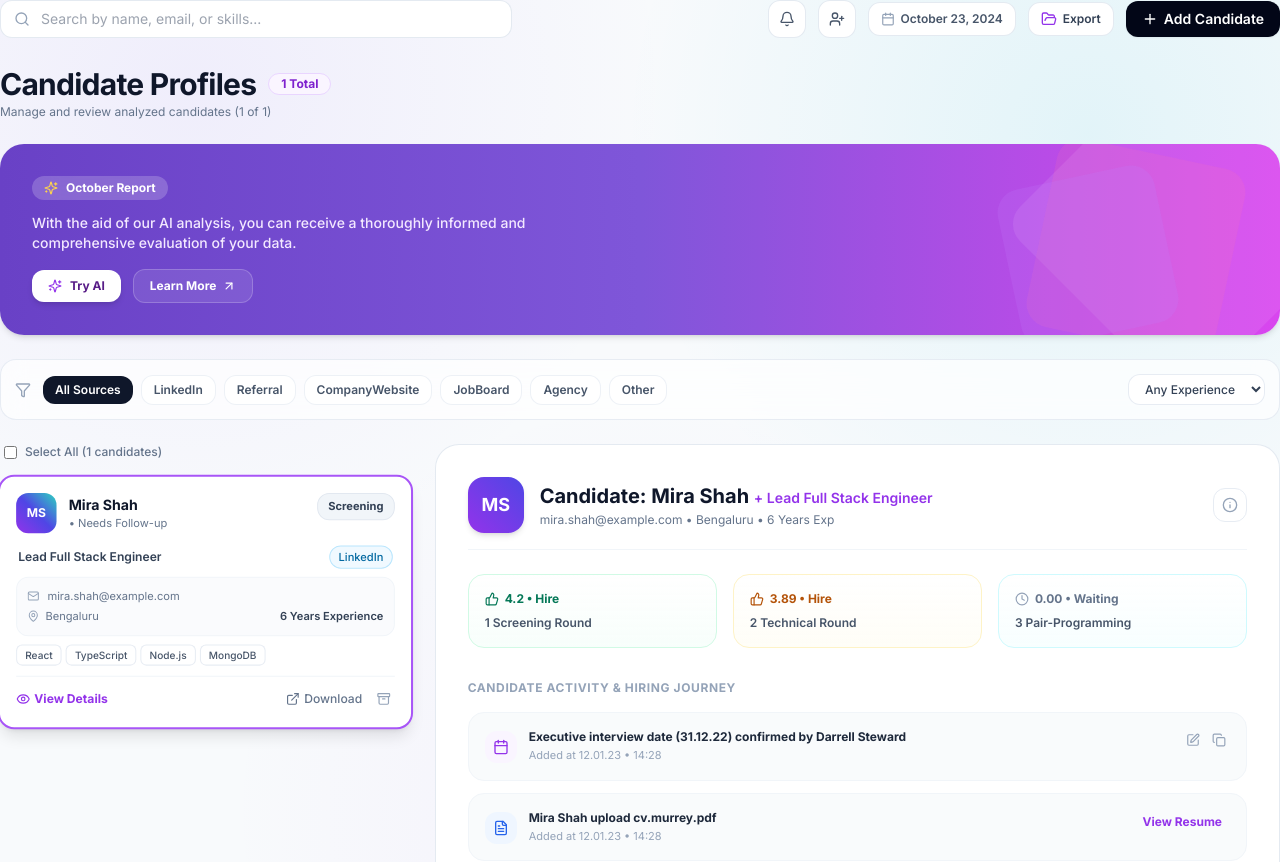
Test: CandidatesView Component — Phase 4 UI Verification › opens Candidate Detail modal when clicking candidate name
Note: Click candidate name to open detail modal
Click the heading "Mira Shah".
click(103, 504)  # box [69,496,138,513]
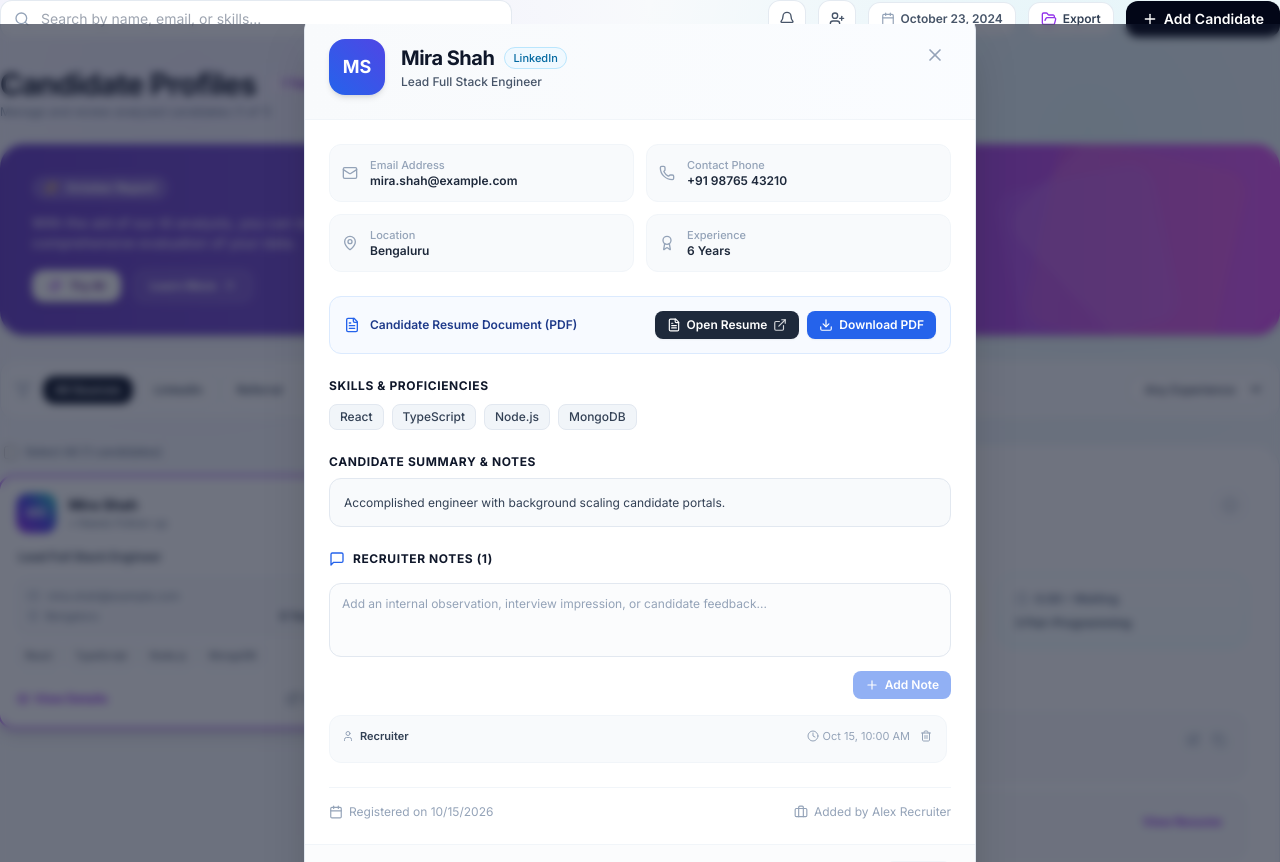
Check: the heading "Skills & Proficiencies" is shown, box [329,378,489,393]
Check: the heading "Candidate Summary & Notes" is shown, box [329,454,536,469]
Check: the text "Open Resume" is shown, box [687,317,767,333]
